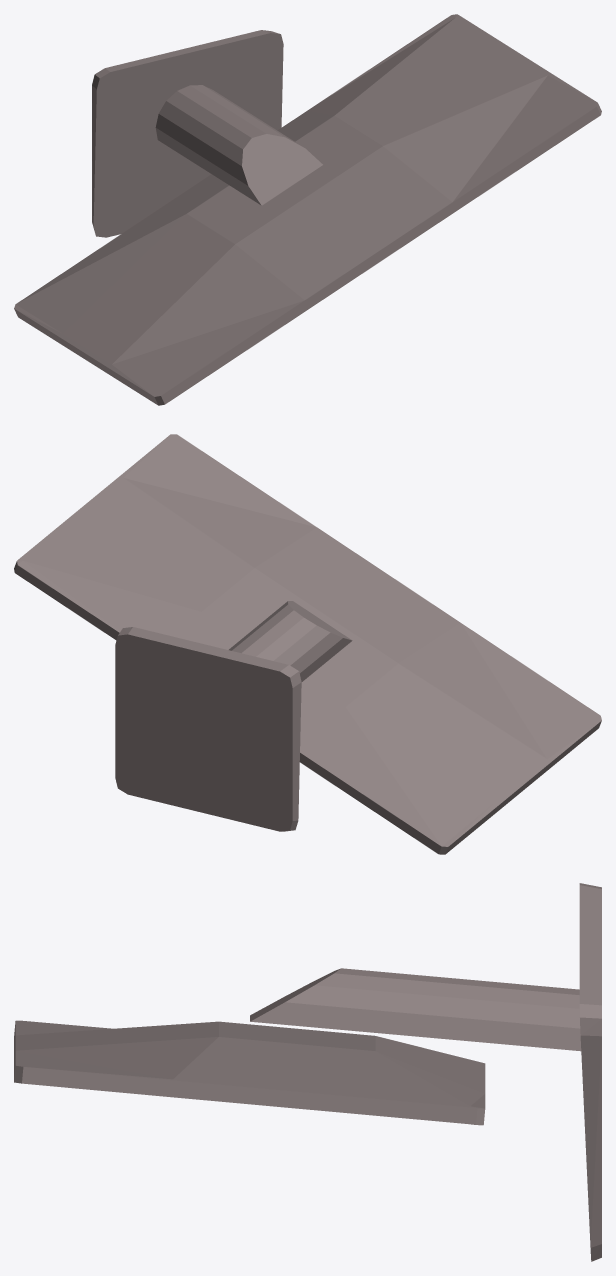
The model's file is 171005_Motek_Monitor_L.dae.
3 renders of one model, top to bottom at view 1: azimuth 30°, elevation 25°; view 2: azimuth 150°, elevation 25°; view 3: azimuth 270°, elevation 25°, orthographic. The views are drawn at different scales.
Parts seen in each view (by area): view 1: node; view 2: node; view 3: node.
Part boxes in pixels (x1,y1,x2,y2): node: [14, 14, 601, 405]; node: [14, 434, 601, 854]; node: [14, 883, 601, 1261].
Size of the model in its own units: 0.472 by 0.2161 by 0.3469.
Materials: 1 (1 with a texture image).
